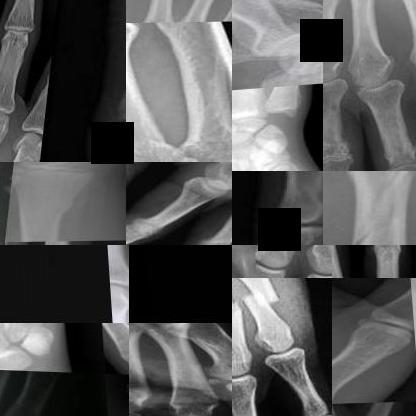fracture: (323, 171, 415, 244), (14, 162, 118, 186), (235, 283, 286, 326), (17, 136, 47, 161), (232, 293, 246, 334)
